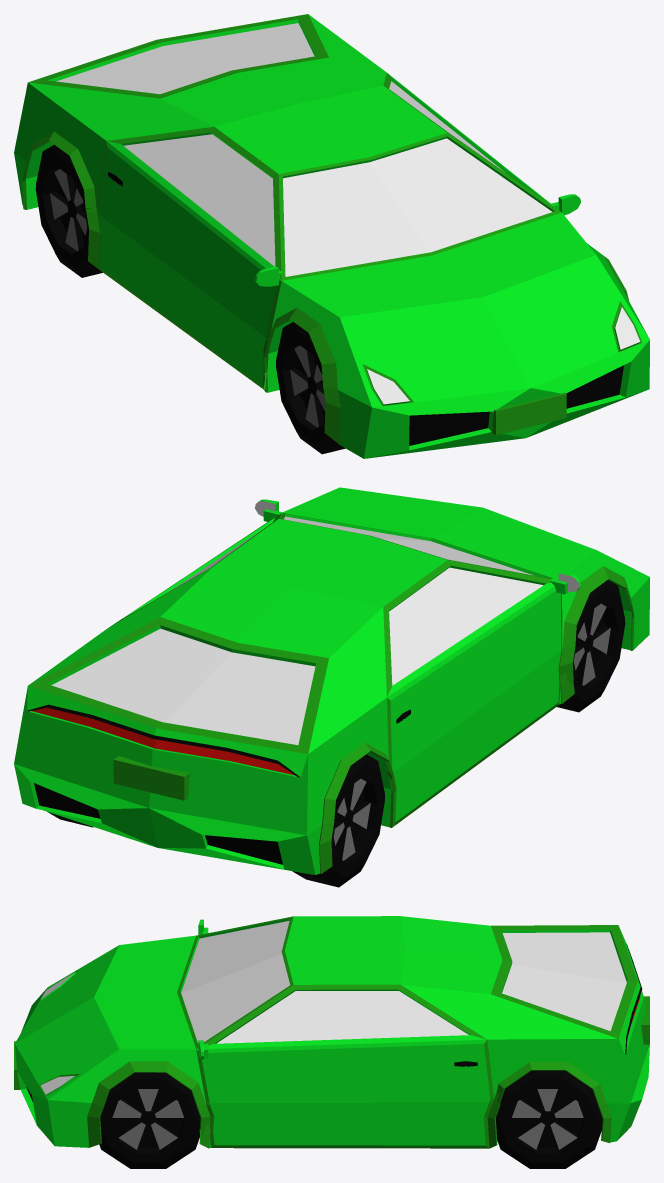
The picture shows the model from 3 angles, top to bottom: view 1: azimuth 30°, elevation 25°; view 2: azimuth 150°, elevation 25°; view 3: azimuth 270°, elevation 25°; orthographic projection. The views are drawn at different scales.
Parts seen in each view (by area): view 1: Body, R_R_Wheel, F_R_Wheel; view 2: Body, R_R_Wheel, F_R_Wheel; view 3: Body, R_L_Wheel, F_L_Wheel.
Boxes of the visible parts, <box> form: Body: <box>14,14,649,458</box>; R_R_Wheel: <box>35,144,102,277</box>; F_R_Wheel: <box>276,322,345,454</box>; Body: <box>14,487,649,874</box>; R_R_Wheel: <box>292,754,384,887</box>; F_R_Wheel: <box>557,580,625,712</box>; Body: <box>14,916,649,1148</box>; R_L_Wheel: <box>496,1070,602,1168</box>; F_L_Wheel: <box>99,1072,200,1168</box>.
Size of the model in its own units: 390 by 224 by 795.
